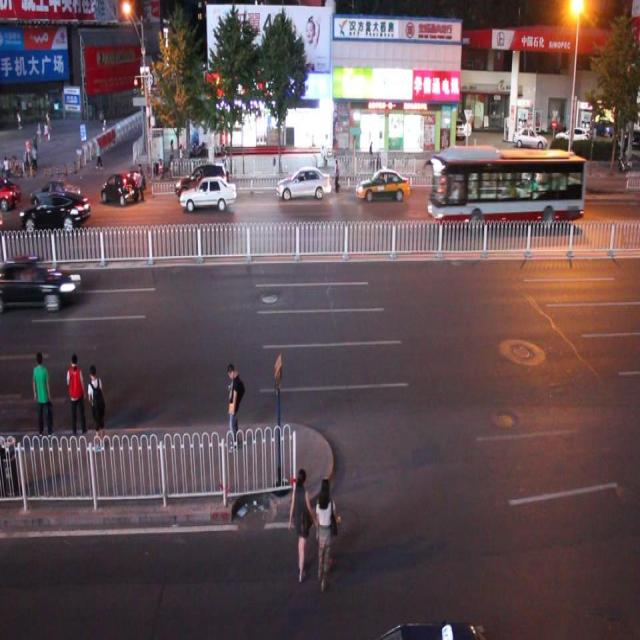car: (1, 254, 80, 311), (21, 190, 90, 232), (276, 164, 331, 200), (180, 177, 236, 212), (175, 161, 229, 197), (356, 168, 409, 204), (29, 176, 81, 208), (102, 170, 137, 208), (510, 153, 538, 190), (1, 176, 20, 216)
van: (427, 146, 584, 229)
